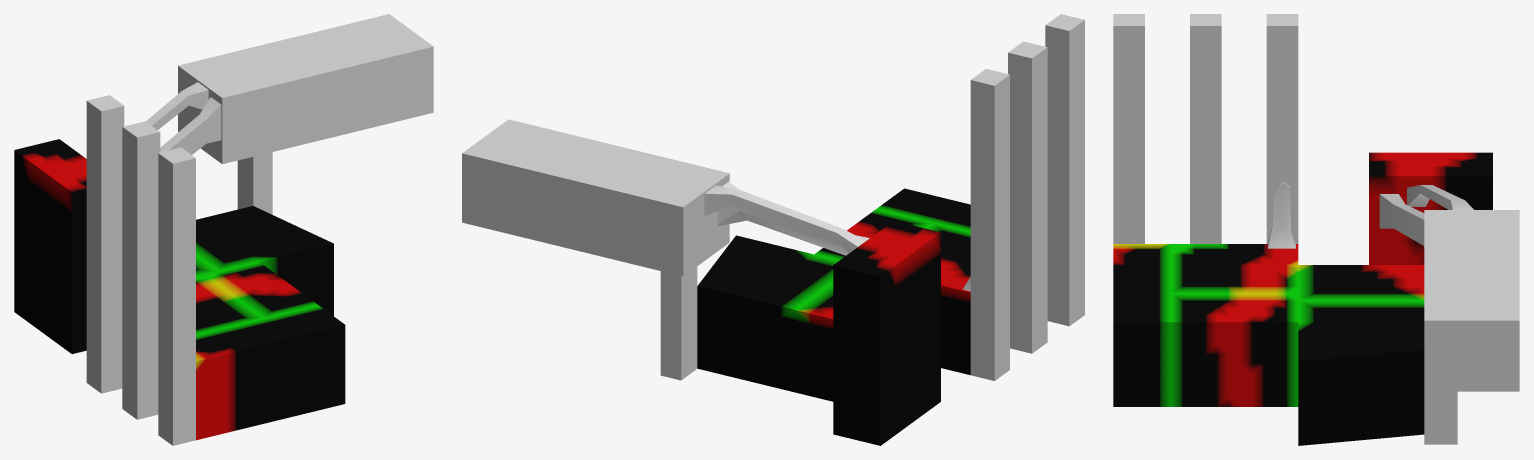
The model's file is Prueba Nivel1.fbx.
3 views of the same model, side by side, from view 1: azimuth 30°, elevation 25°; view 2: azimuth 150°, elevation 25°; view 3: azimuth 270°, elevation 25° (orthographic). The views are drawn at different scales.
Visible parts, largest first — view 1: Scenario, Box2, Box1, Pilar3, Pilar1, Pilar2, GigantBone1, GigantBone2; view 2: Box2, Scenario, Box1, Pilar1, Pilar2, Pilar3, GigantBone2, GigantBone1; view 3: Scenario, Box2, Box1, Pilar2, Pilar3, Pilar1, GigantBone1, Meat, GigantBone2.
Boxes of the visible parts, x1=… form: Scenario: x1=196, y1=206, x2=345, y2=440; Box2: x1=178, y1=14, x2=433, y2=214; Box1: x1=14, y1=139, x2=86, y2=353; Pilar3: x1=158, y1=147, x2=195, y2=445; Pilar1: x1=86, y1=95, x2=124, y2=393; Pilar2: x1=122, y1=121, x2=160, y2=419; GigantBone1: x1=160, y1=97, x2=221, y2=154; GigantBone2: x1=146, y1=82, x2=208, y2=129; Box2: x1=462, y1=119, x2=729, y2=380; Scenario: x1=697, y1=188, x2=970, y2=401; Box1: x1=833, y1=221, x2=940, y2=445; Pilar1: x1=970, y1=69, x2=1009, y2=380; Pilar2: x1=1008, y1=41, x2=1047, y2=353; Pilar3: x1=1045, y1=14, x2=1084, y2=326; GigantBone2: x1=704, y1=185, x2=865, y2=253; GigantBone1: x1=717, y1=181, x2=869, y2=255; Scenario: x1=1113, y1=244, x2=1424, y2=445; Box2: x1=1424, y1=210, x2=1519, y2=444; Box1: x1=1369, y1=152, x2=1492, y2=264; Pilar2: x1=1190, y1=14, x2=1221, y2=243; Pilar3: x1=1113, y1=14, x2=1144, y2=243; Pilar1: x1=1266, y1=14, x2=1298, y2=243; GigantBone1: x1=1379, y1=194, x2=1424, y2=247; Meat: x1=1268, y1=182, x2=1295, y2=248; GigantBone2: x1=1407, y1=185, x2=1473, y2=209.
Size of the model in its own units: 6870 by 4565 by 5555.
